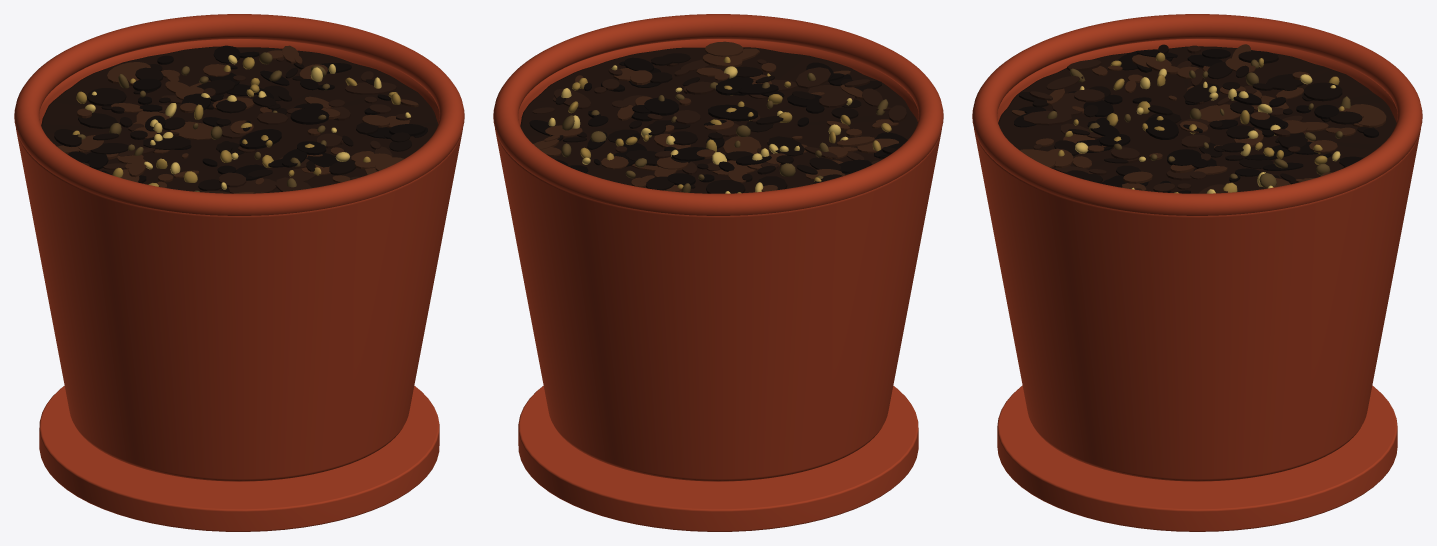
File: Flower_Pot_With_Soil_And_Fertilizer.obj
3 views of the same model, side by side, from view 1: azimuth 30°, elevation 25°; view 2: azimuth 150°, elevation 25°; view 3: azimuth 270°, elevation 25° (orthographic).
Visible parts, largest first — view 1: SM_Empty_Flower_Pot_Top_Open, SM_Flower_Pot_Open_Rim, SM_Unterteller, SM_Soil_Filling, SM_Soiltextur_Fleck.144, SM_Soiltextur_Fleck.105; view 2: SM_Empty_Flower_Pot_Top_Open, SM_Flower_Pot_Open_Rim, SM_Unterteller, SM_Soil_Filling, SM_Soiltextur_Fleck.144; view 3: SM_Empty_Flower_Pot_Top_Open, SM_Flower_Pot_Open_Rim, SM_Unterteller, SM_Soil_Filling, SM_Soiltextur_Fleck.105, SM_Soiltextur_Fleck.144, SM_Soiltextur_Fleck.042, SM_Soiltextur_Fleck.145.
Boxes of the visible parts, x1=… form: SM_Empty_Flower_Pot_Top_Open: x1=16, y1=39, x2=462, y2=481; SM_Flower_Pot_Open_Rim: x1=14, y1=14, x2=464, y2=215; SM_Unterteller: x1=39, y1=386, x2=439, y2=531; SM_Soil_Filling: x1=41, y1=46, x2=438, y2=192; SM_Soiltextur_Fleck.144: x1=239, y1=129, x2=281, y2=149; SM_Soiltextur_Fleck.105: x1=87, y1=88, x2=126, y2=106; SM_Empty_Flower_Pot_Top_Open: x1=495, y1=39, x2=941, y2=481; SM_Flower_Pot_Open_Rim: x1=493, y1=14, x2=943, y2=215; SM_Unterteller: x1=518, y1=386, x2=918, y2=531; SM_Soil_Filling: x1=520, y1=47, x2=917, y2=193; SM_Soiltextur_Fleck.144: x1=708, y1=104, x2=757, y2=121; SM_Empty_Flower_Pot_Top_Open: x1=974, y1=39, x2=1420, y2=481; SM_Flower_Pot_Open_Rim: x1=972, y1=14, x2=1422, y2=215; SM_Unterteller: x1=997, y1=385, x2=1397, y2=531; SM_Soil_Filling: x1=998, y1=46, x2=1396, y2=193; SM_Soiltextur_Fleck.105: x1=1304, y1=82, x2=1342, y2=101; SM_Soiltextur_Fleck.144: x1=1145, y1=117, x2=1178, y2=139; SM_Soiltextur_Fleck.042: x1=1350, y1=104, x2=1386, y2=127; SM_Soiltextur_Fleck.145: x1=1023, y1=110, x2=1071, y2=125.
Bounding box in the file's own units: 1.44 × 1.21 × 1.44.
